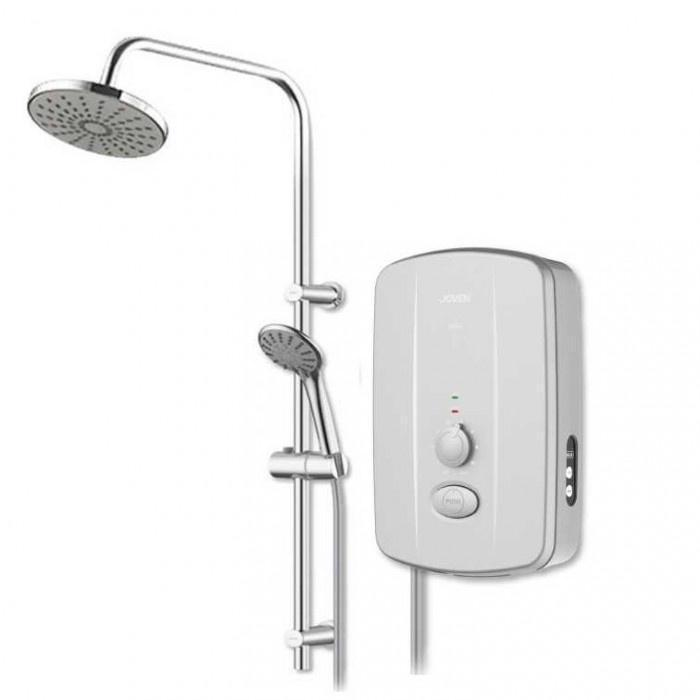Ducha: (25, 16, 612, 676)
